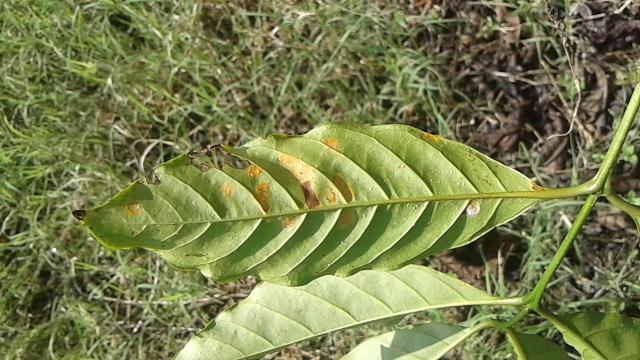rust_level_2: (66, 122, 550, 284)
